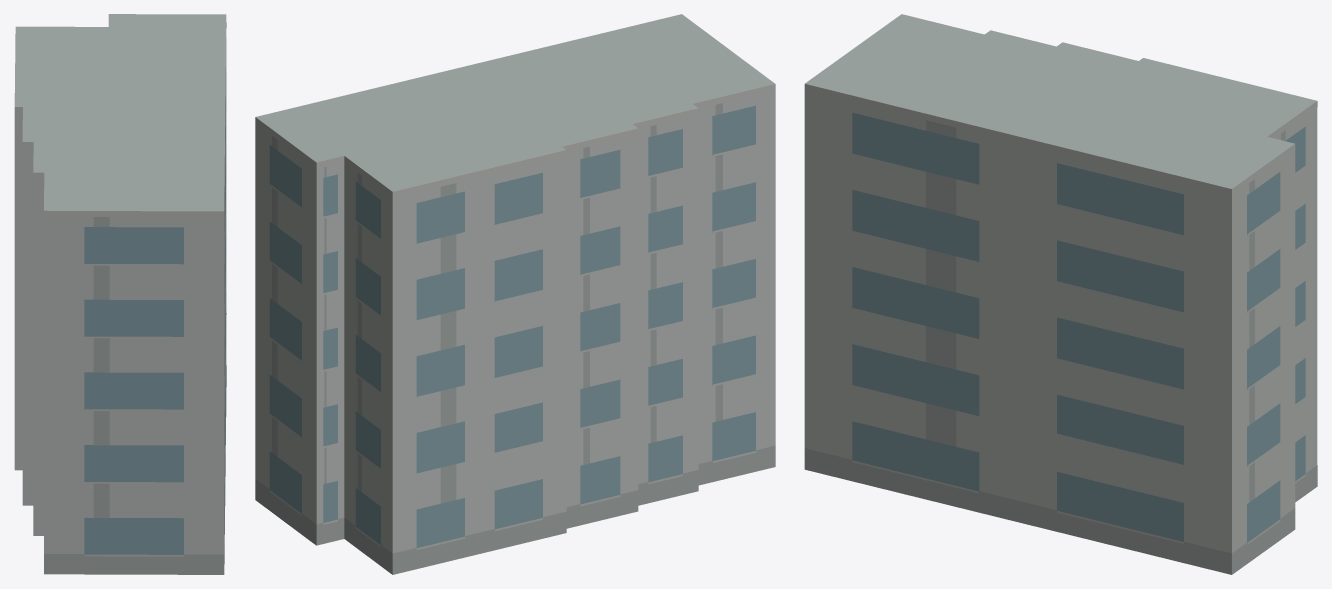
The model's file is survey-upis-32626947.glb.
3 views of the same model, side by side, from view 1: azimuth 30°, elevation 25°; view 2: azimuth 150°, elevation 25°; view 3: azimuth 270°, elevation 25° (orthographic). The views are drawn at different scales.
Parts seen in each view (by area): view 1: survey-upis-32626947.tmp; view 2: survey-upis-32626947.tmp; view 3: survey-upis-32626947.tmp.
Part boxes in pixels (x1,y1,x2,y2): survey-upis-32626947.tmp: [14, 14, 226, 574]; survey-upis-32626947.tmp: [255, 14, 775, 574]; survey-upis-32626947.tmp: [804, 14, 1317, 574].
Bounding box in the file's own units: 14.12 × 14.5 × 17.48.
